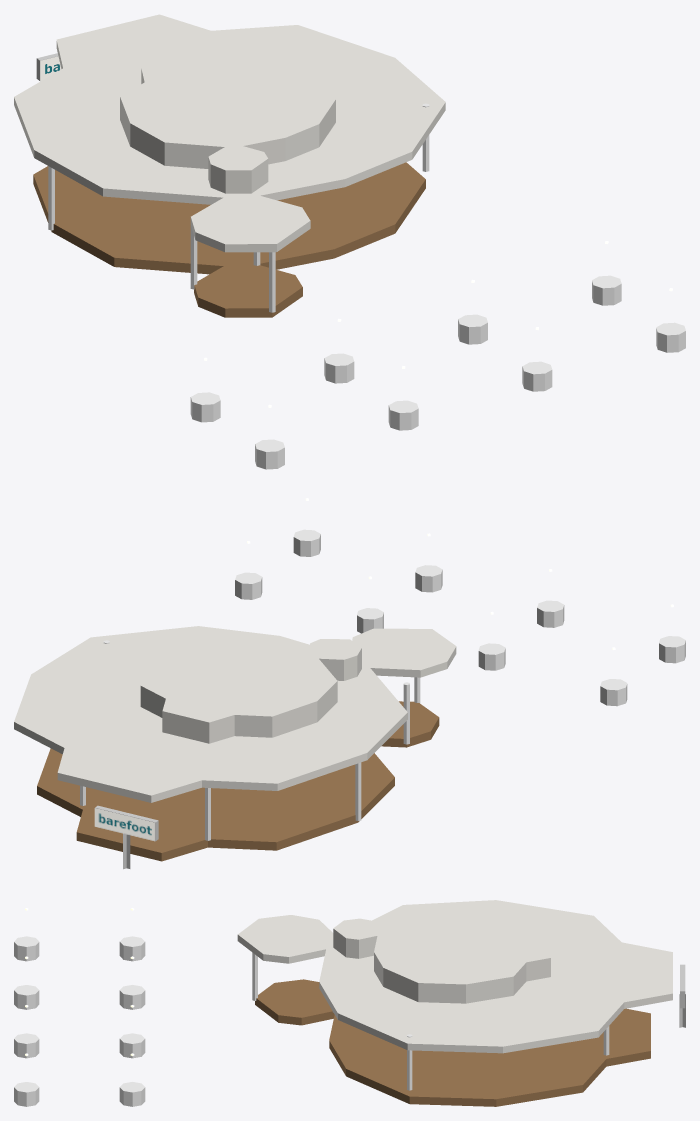
File: barefoot.glb
The picture shows the model from 3 angles, top to bottom: view 1: azimuth 30°, elevation 25°; view 2: azimuth 150°, elevation 25°; view 3: azimuth 270°, elevation 25°; orthographic projection. The views are drawn at different scales.
Visible parts, largest first — view 1: barefoot_lod0; view 2: barefoot_lod0; view 3: barefoot_lod0.
Boxes of the visible parts, x1=… form: barefoot_lod0: x1=14, y1=14, x2=685, y2=469; barefoot_lod0: x1=14, y1=498, x2=685, y2=869; barefoot_lod0: x1=14, y1=900, x2=685, y2=1106.
Size of what is drawn, in the model's own units: 19.21 by 4.96 by 31.76.
7 materials, 1 textured.
